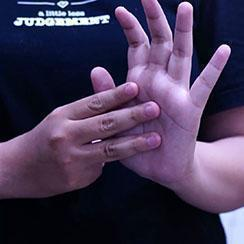M: (45, 0, 233, 239)
